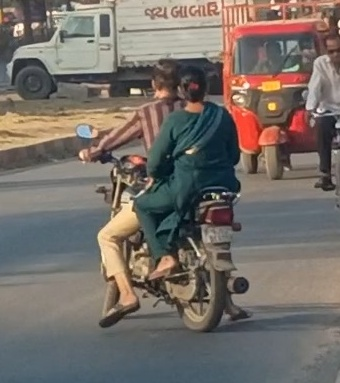BikeWithRider: (70, 54, 258, 336)
NoHelmet: (145, 55, 187, 104), (173, 61, 212, 107)
